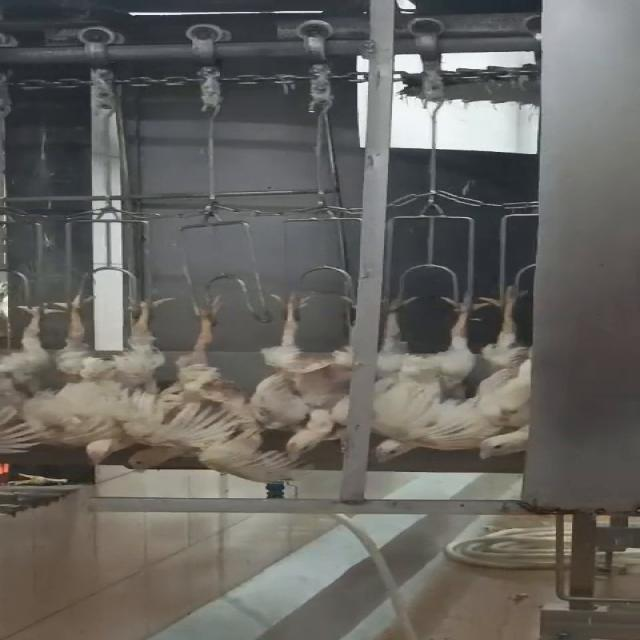chicken: (119, 296, 235, 478), (64, 292, 179, 472), (366, 293, 480, 467), (256, 295, 373, 458), (0, 295, 99, 460), (471, 278, 541, 460)
